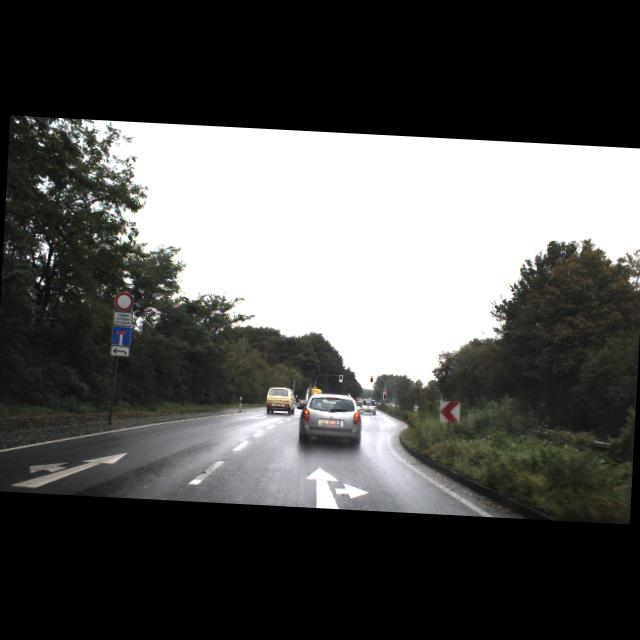prohibitory: (114, 292, 135, 312)
